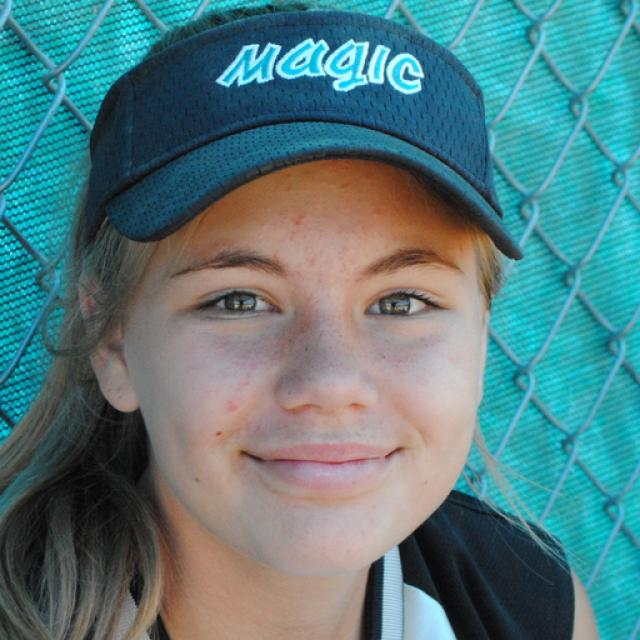Acne: (288, 213, 309, 228), (367, 209, 386, 222), (395, 357, 408, 375)
Pigmentation: (279, 325, 358, 394), (220, 324, 308, 368)
